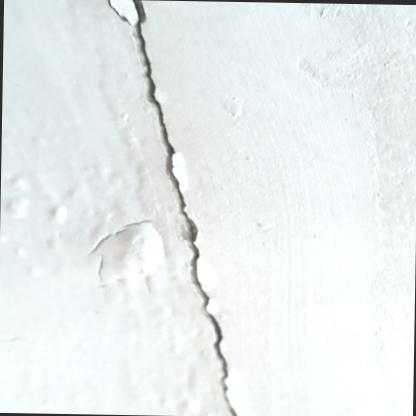crack: (104, 0, 241, 416)
